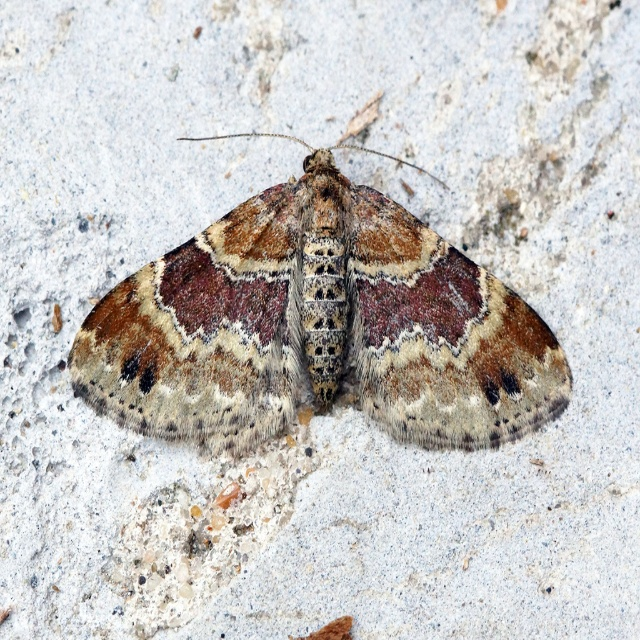Butterfly: (91, 81, 477, 434)
